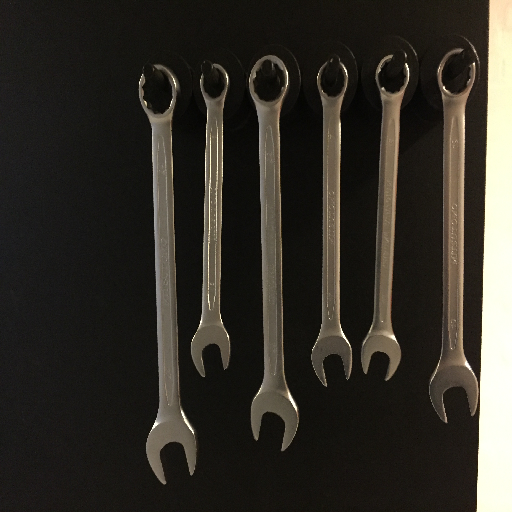bottom: (142, 421, 207, 489), (426, 358, 481, 426), (248, 387, 299, 452), (306, 334, 353, 388), (358, 331, 403, 384), (189, 327, 232, 382)
top: (134, 61, 183, 120), (244, 54, 293, 108), (431, 45, 478, 97), (371, 51, 413, 99), (312, 55, 351, 102), (197, 61, 229, 103)
